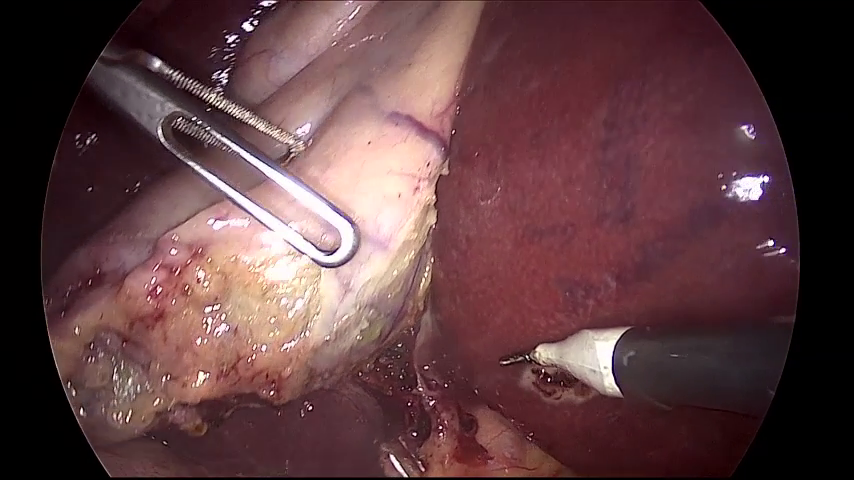grasper: (86, 49, 355, 266)
lhook: (503, 309, 795, 416)
